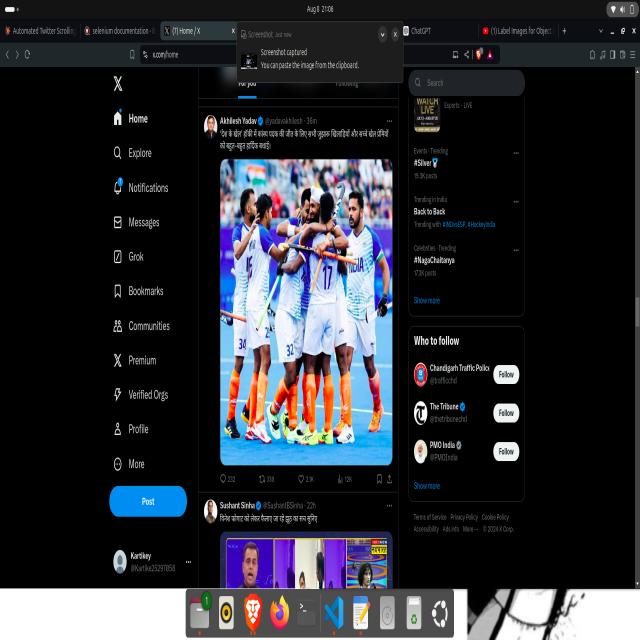Tweet-Comment_Box-: (191, 102, 407, 501)
